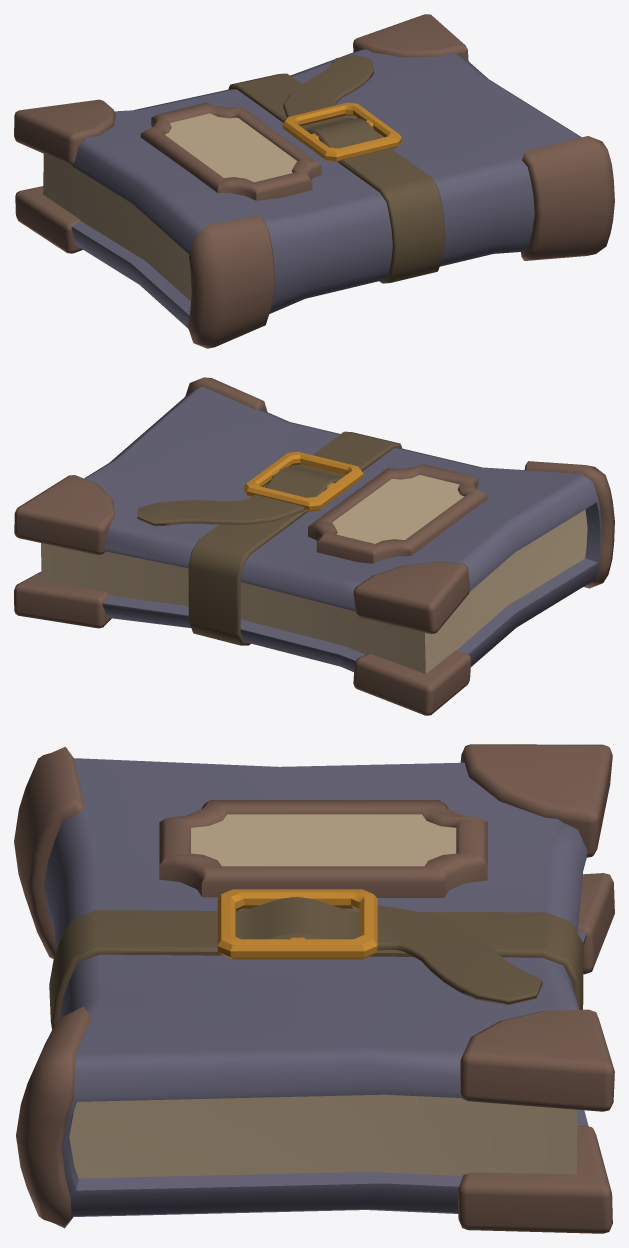
Rendered from P_Book_01_LD.fbx.
3 views of the same model, one above another, from view 1: azimuth 30°, elevation 25°; view 2: azimuth 150°, elevation 25°; view 3: azimuth 270°, elevation 25° (orthographic). The views are drawn at different scales.
Visible parts, largest first — view 1: P_Book_01; view 2: P_Book_01; view 3: P_Book_01.
Part boxes in pixels (<box>): P_Book_01: <box>14,14,614,348</box>; P_Book_01: <box>14,377,614,715</box>; P_Book_01: <box>14,744,614,1233</box>.
Size of the model in its own units: 23.85 by 6.66 by 18.74.
1 material, 1 textured.
